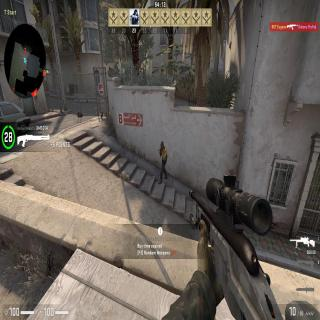T-Body: (159, 140, 168, 183)
T-Head: (160, 141, 163, 148)
